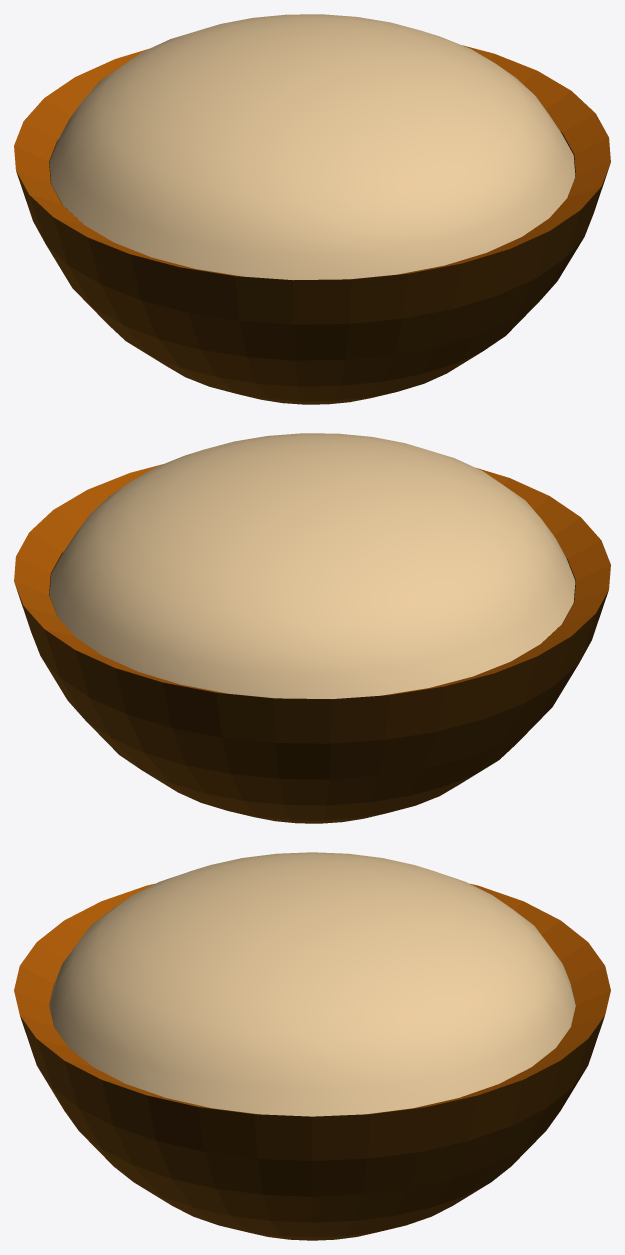
Rendered from Batter.fbx.
3 renders of one model, top to bottom at view 1: azimuth 30°, elevation 25°; view 2: azimuth 150°, elevation 25°; view 3: azimuth 270°, elevation 25°, orthographic.
Parts seen in each view (by area): view 1: Sphere; view 2: Sphere; view 3: Sphere.
Part boxes in pixels (x1,y1,x2,y2): Sphere: (14,14,610,404); Sphere: (14,433,610,823); Sphere: (14,852,610,1240).
Size of the model in its own units: 2.22 by 1.3 by 2.22.
